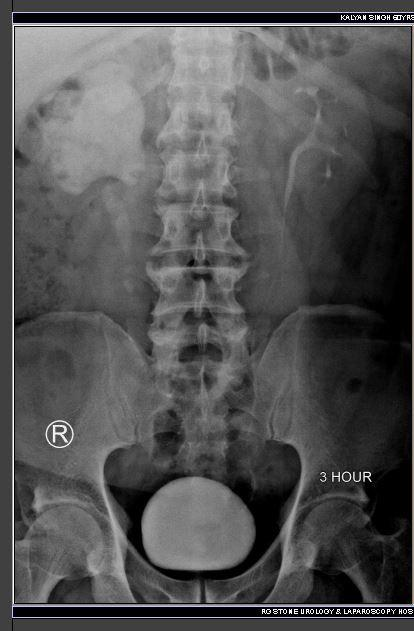bladder: (126, 478, 256, 589)
left kidney: (254, 46, 380, 225)
vertebrae: (150, 85, 230, 142)
